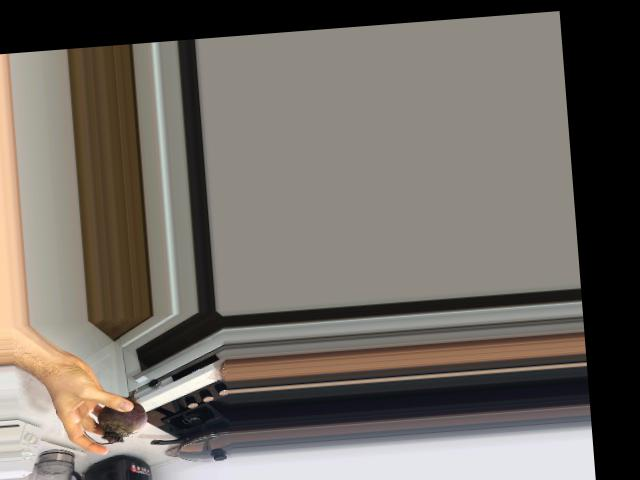beet: (82, 387, 149, 445)
